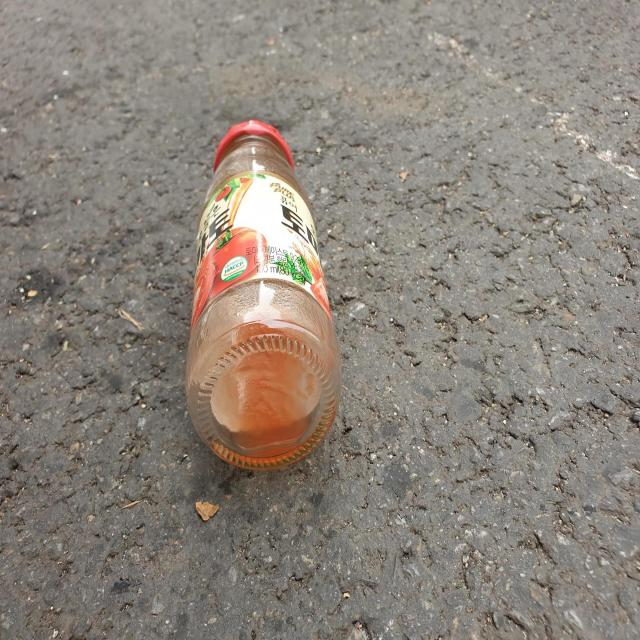glass: (186, 120, 342, 470)
